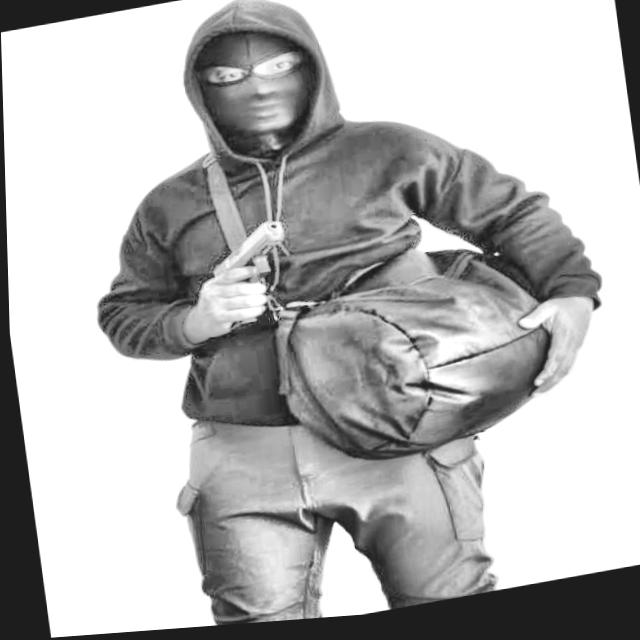pistol: (194, 212, 297, 340)
robbery: (80, 0, 598, 627)
